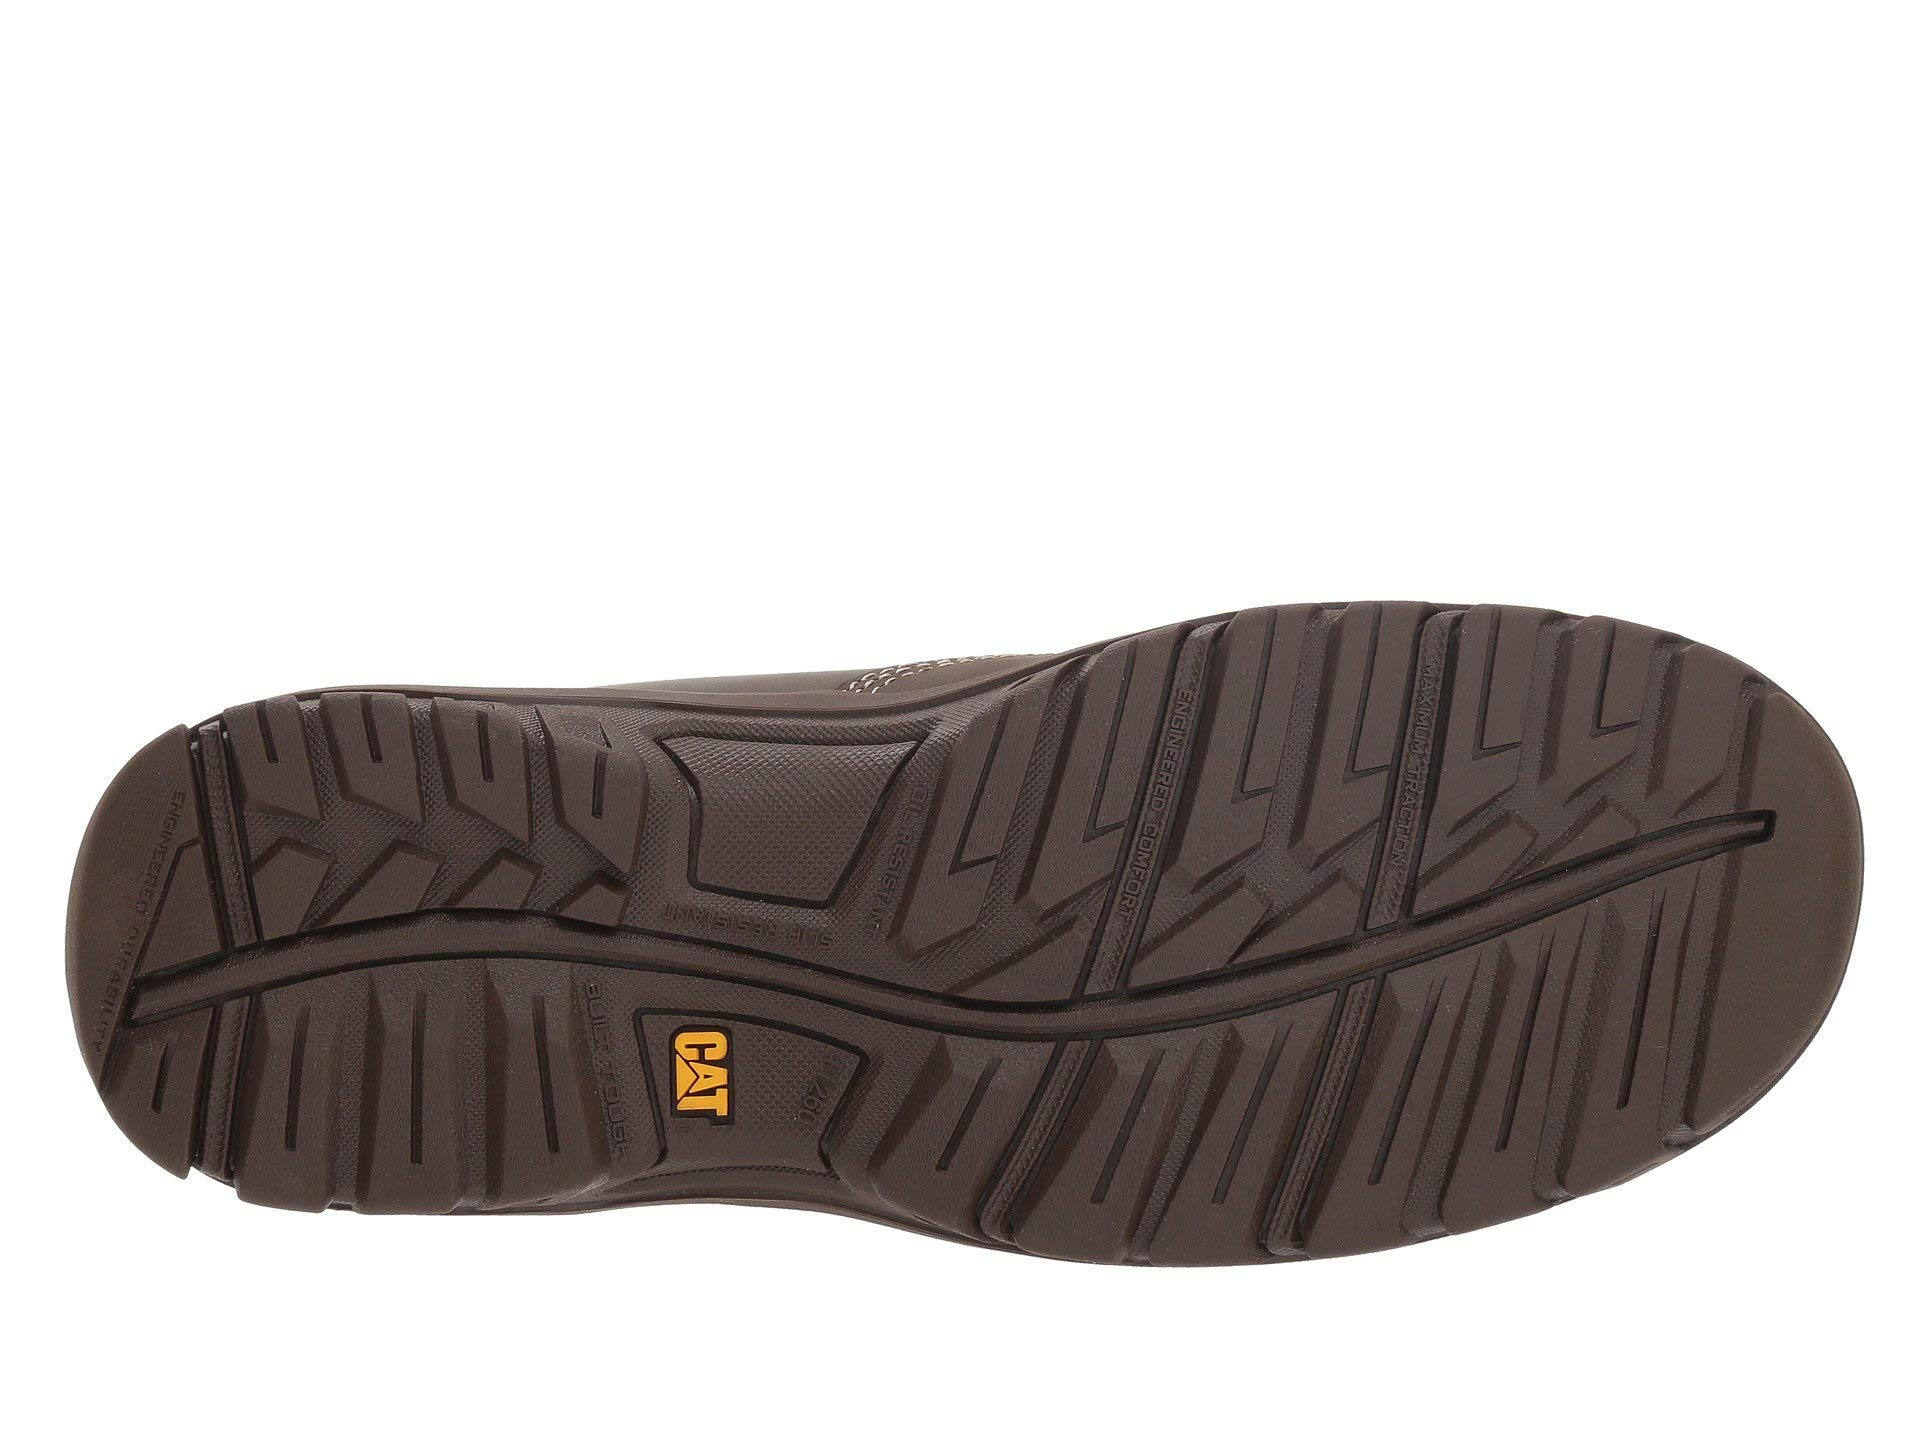polygon: (240, 823, 646, 954)
quad: (889, 1015, 1392, 1265), (939, 867, 1386, 1019), (1217, 604, 1550, 794), (240, 823, 646, 954), (1394, 803, 1643, 929), (562, 970, 646, 1181), (1587, 597, 1678, 756)
text: (562, 970, 646, 1181), (646, 1024, 736, 1131), (792, 1039, 865, 1150)
triangle: (646, 1024, 736, 1131)
